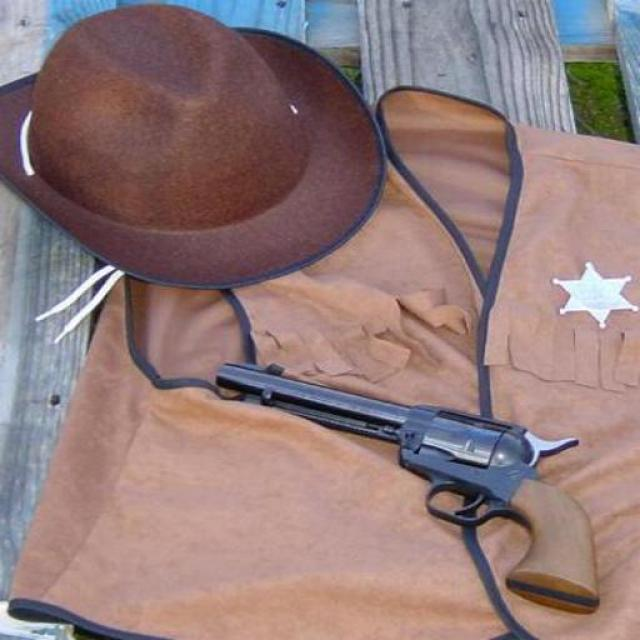pistol: (215, 358, 604, 614)
